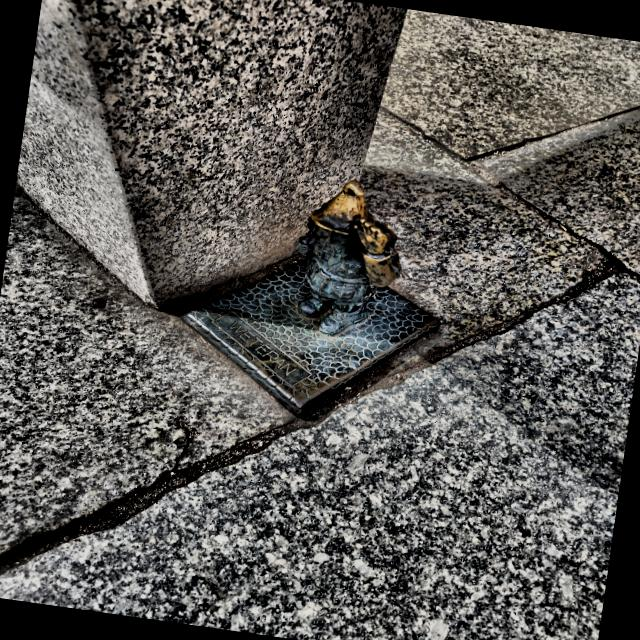Weteran: (296, 181, 401, 336)
